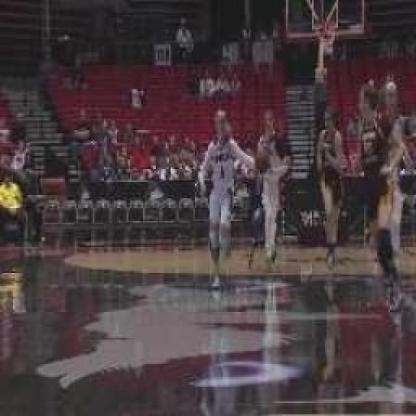basketball: (252, 150, 271, 174)
